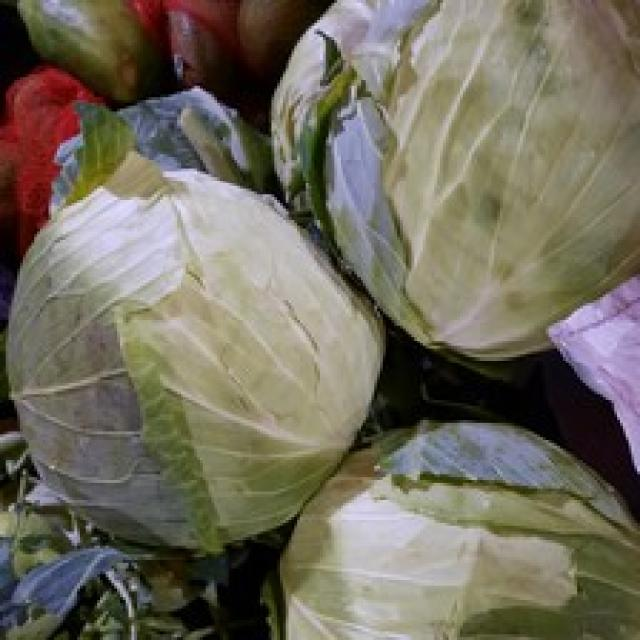Cabbage: (0, 109, 386, 554), (269, 0, 637, 363)
